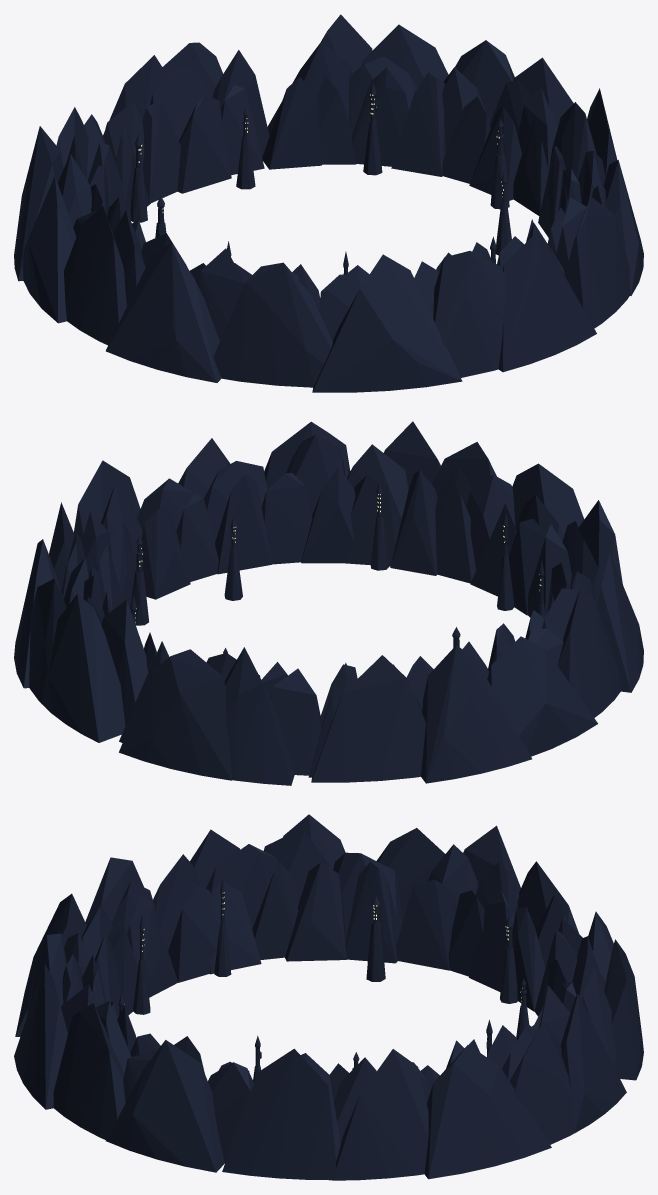
The model's file is shadow-horizon-v01.glb.
The picture shows the model from 3 angles, top to bottom: view 1: azimuth 30°, elevation 25°; view 2: azimuth 150°, elevation 25°; view 3: azimuth 270°, elevation 25°; orthographic projection.
Parts seen in each view (by area): view 1: Shadow horizon mountain 0; view 2: Shadow horizon mountain 0; view 3: Shadow horizon mountain 0.
Part boxes in pixels (box(x1,y1,x2,y2)): Shadow horizon mountain 0: box(14, 14, 643, 392); Shadow horizon mountain 0: box(14, 421, 643, 785); Shadow horizon mountain 0: box(14, 814, 643, 1180).
Bounding box in the file's own units: 501 × 110 × 508.
